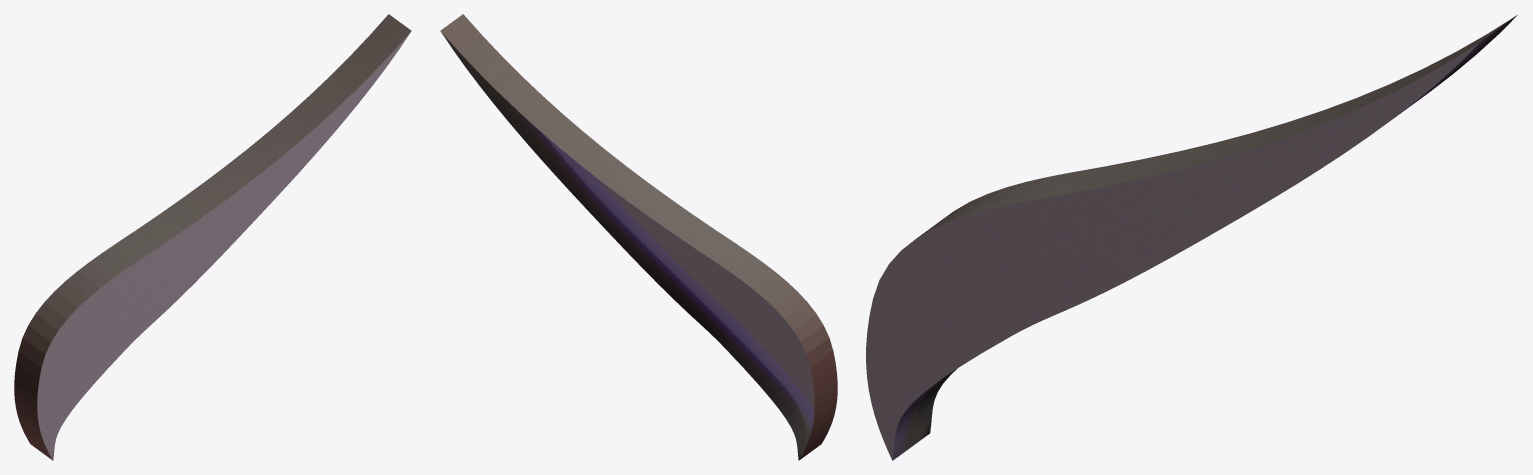
File: icon_thymeleaf_grey.glb
The picture shows the model from 3 angles, left to right: view 1: azimuth 30°, elevation 25°; view 2: azimuth 150°, elevation 25°; view 3: azimuth 330°, elevation 25°; orthographic projection. The views are drawn at different scales.
Visible parts, largest first — view 1: icon_thymeleaf_grey; view 2: icon_thymeleaf_grey; view 3: icon_thymeleaf_grey.
Part boxes in pixels (x1=…): icon_thymeleaf_grey: x1=14, y1=14, x2=411, y2=460; icon_thymeleaf_grey: x1=440, y1=14, x2=837, y2=460; icon_thymeleaf_grey: x1=866, y1=15, x2=1517, y2=460.
Bounding box in the file's own units: 1.66 × 1.45 × 0.1767.
1 material, 1 textured.
